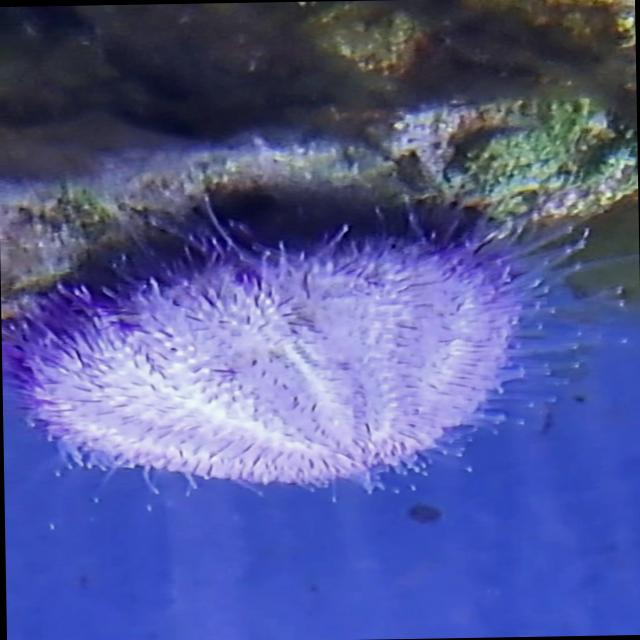Deniz Kestanesi: (0, 186, 569, 507)
